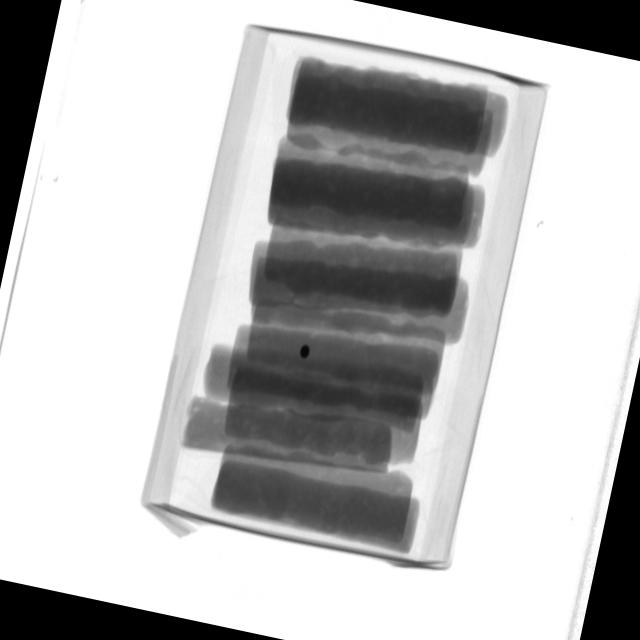ym: (301, 345, 313, 360)
